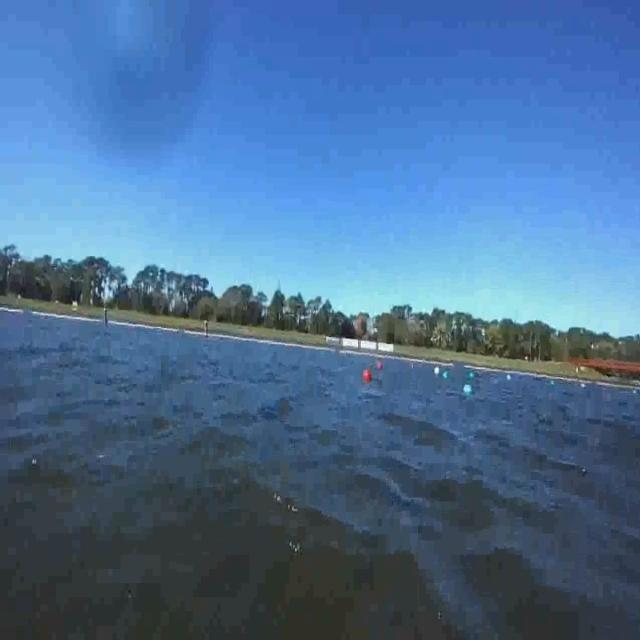green-buoy: (466, 381, 476, 394), (469, 369, 477, 379)
red-buoy: (362, 369, 372, 385)
